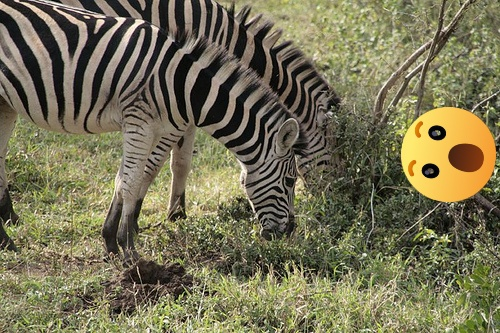wow: (401, 107, 496, 202)
